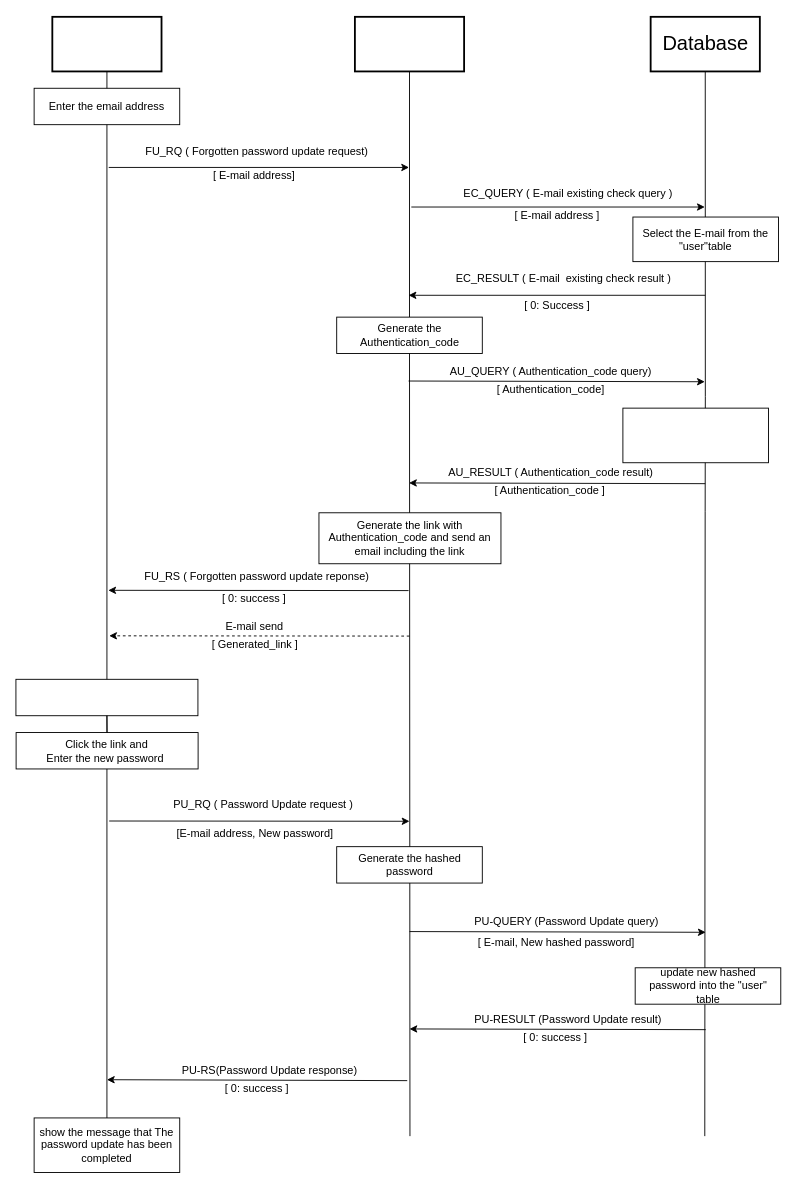
This 797x1188 diagram has some shape labels left out. The shapes that lost their labels are listed below. From the top down, each one's centre as x and y in pixels, then its label:
(x=106, y=43): Client (Web, App)
(x=409, y=43): Server
(x=695, y=435): update the Authentication_code into the " user " table
(x=106, y=697): Show the message that mail has been sent
